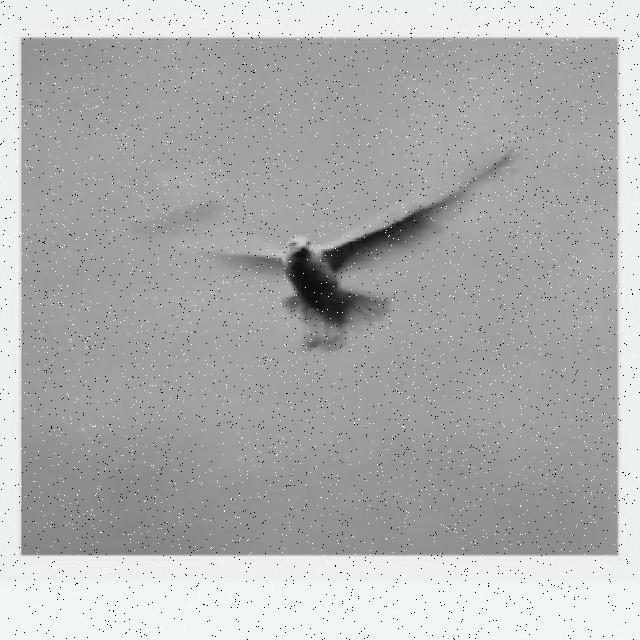bird: (206, 159, 499, 356)
